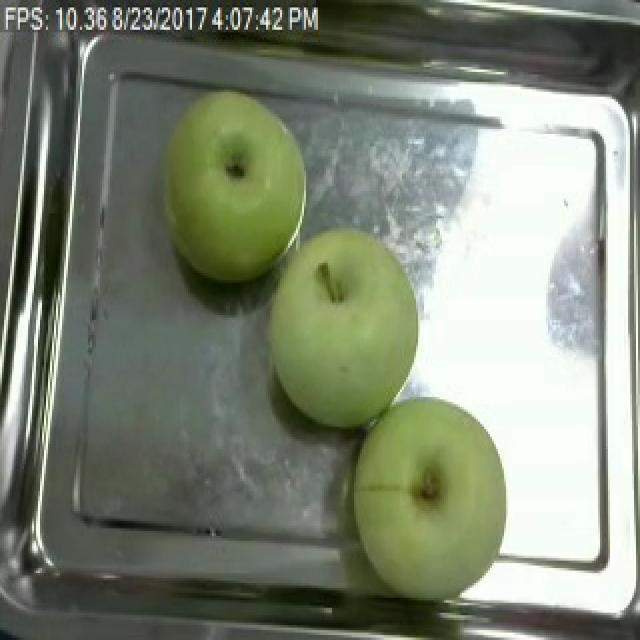apple: (353, 398, 506, 599), (269, 229, 417, 427), (166, 92, 306, 282)
